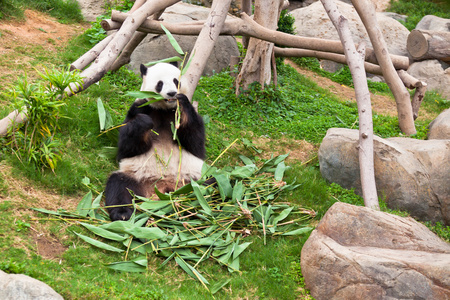panda: (105, 54, 218, 215)
